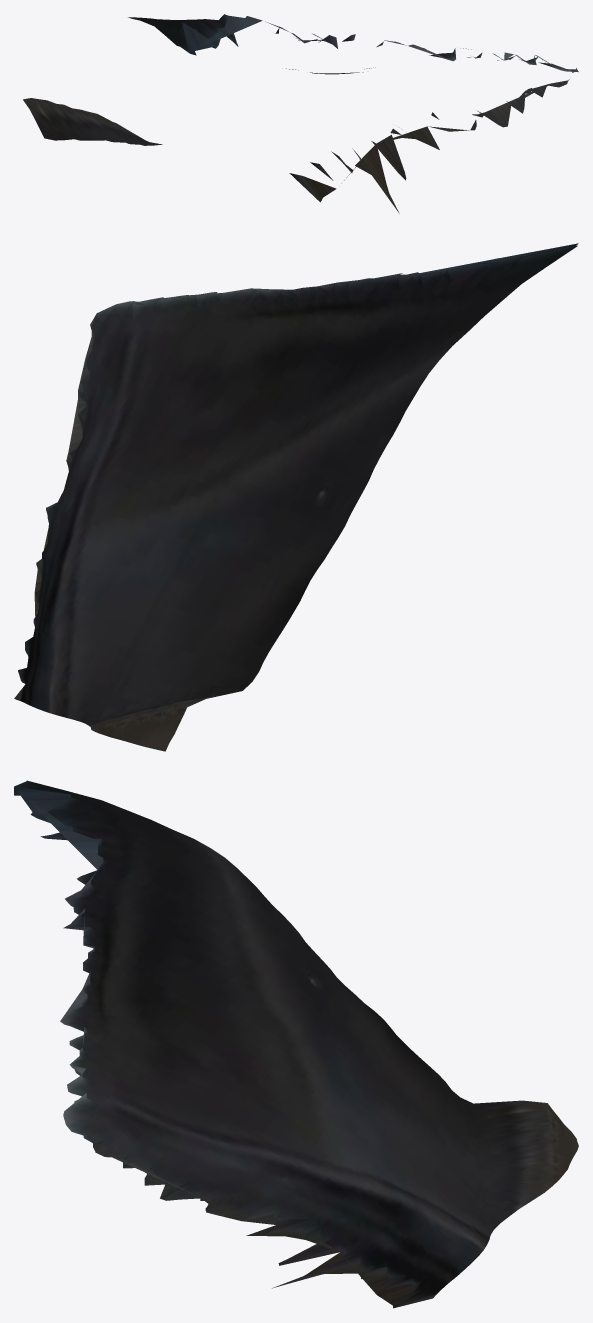
The model's file is observed-surface.glb.
3 renders of one model, top to bottom at view 1: azimuth 30°, elevation 25°; view 2: azimuth 150°, elevation 25°; view 3: azimuth 270°, elevation 25°, orthographic. The views are drawn at different scales.
Parts seen in each view (by area): view 1: geometry_0; view 2: geometry_0; view 3: geometry_0.
Part boxes in pixels (x1,y1,x2,y2): geometry_0: (23,14,578,213); geometry_0: (14,243,578,751); geometry_0: (14,780,578,1308).
Size of the model in its own units: 0.5613 by 0.4642 by 0.644.
1 material, 1 textured.
